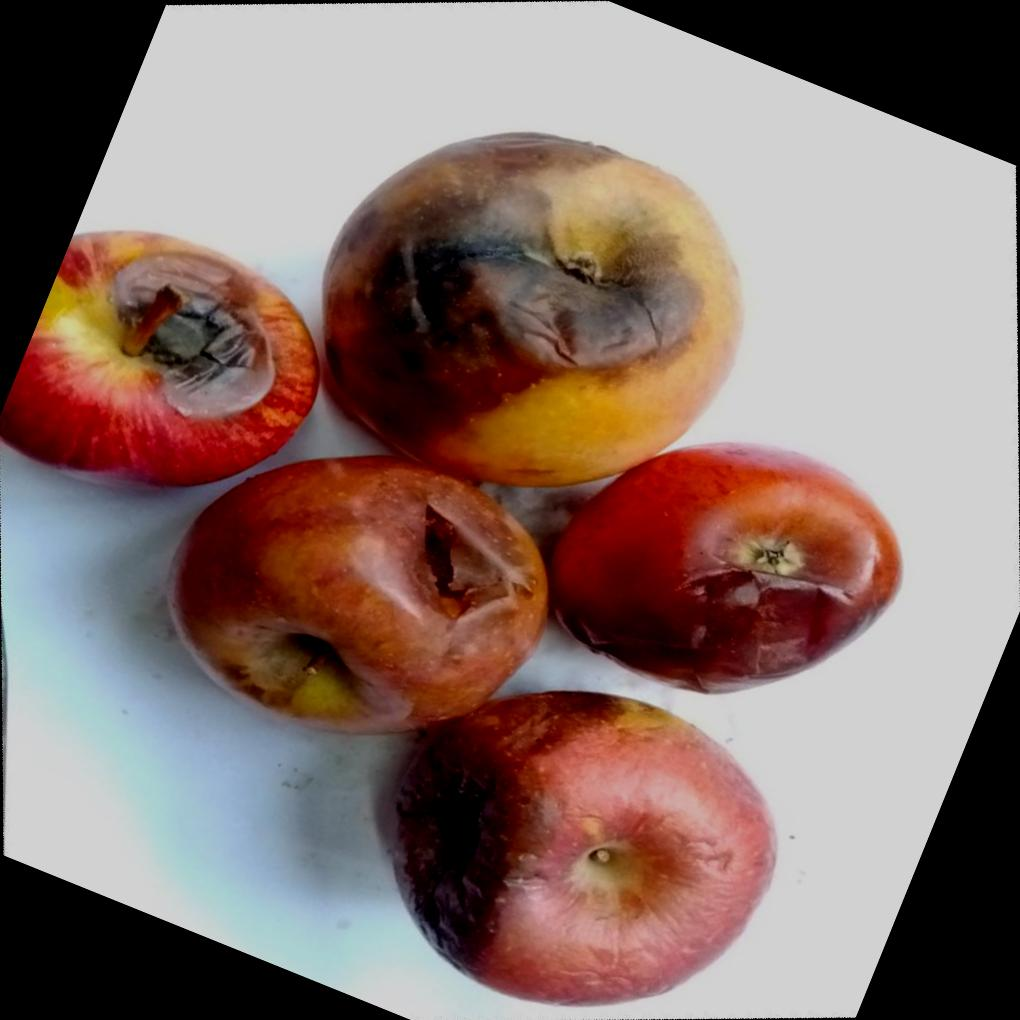FreshOrange: (0, 126, 929, 1010)
